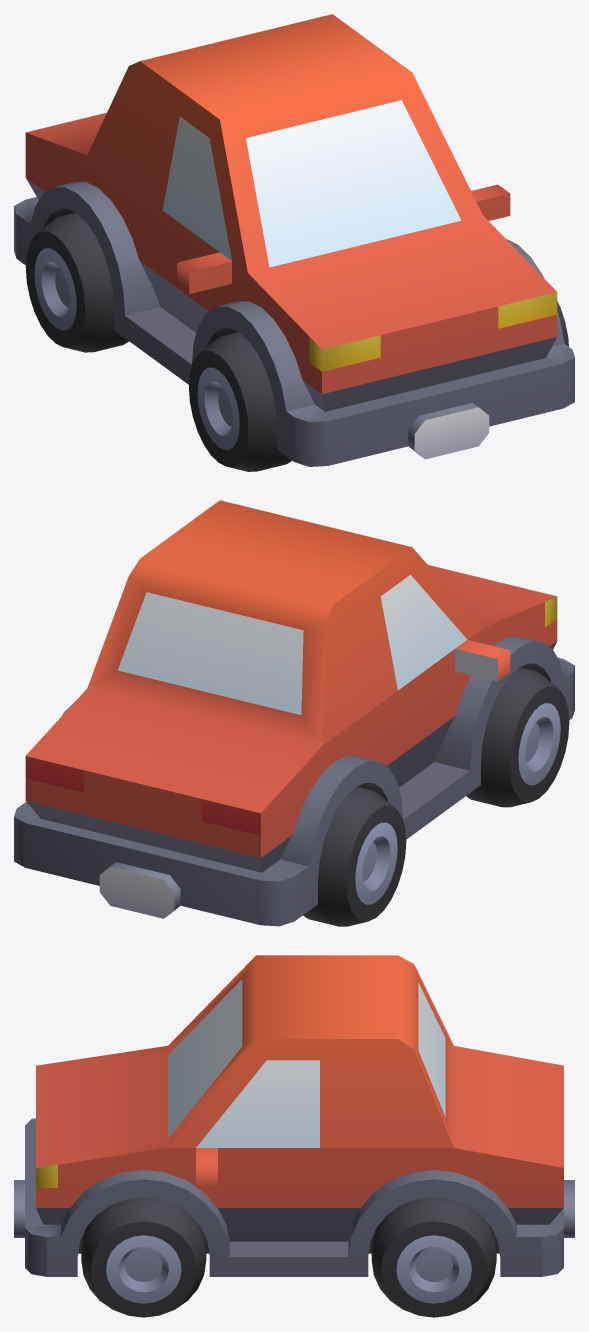
Rendered from car_sedan.glb.
3 renders of one model, top to bottom at view 1: azimuth 30°, elevation 25°; view 2: azimuth 150°, elevation 25°; view 3: azimuth 270°, elevation 25°, orthographic. The views are drawn at different scales.
Parts seen in each view (by area): view 1: body, wheel_rl_mesh, wheel_fl_mesh; view 2: body, wheel_fl_mesh, wheel_rl_mesh; view 3: body, wheel_rr_mesh, wheel_fr_mesh.
Boxes of the visible parts, x1,y1,x2,y2 form: body: (14,14,574,466); wheel_rl_mesh: (25,212,128,352); wheel_fl_mesh: (189,332,291,471); body: (14,500,574,926); wheel_fl_mesh: (466,667,569,807); wheel_rl_mesh: (303,787,406,926); body: (14,955,574,1276); wheel_rr_mesh: (371,1197,496,1317); wheel_fr_mesh: (81,1197,206,1317).
Size of the model in its own units: 1.77 by 1.53 by 3.01.
Materials: 1 (1 with a texture image).
